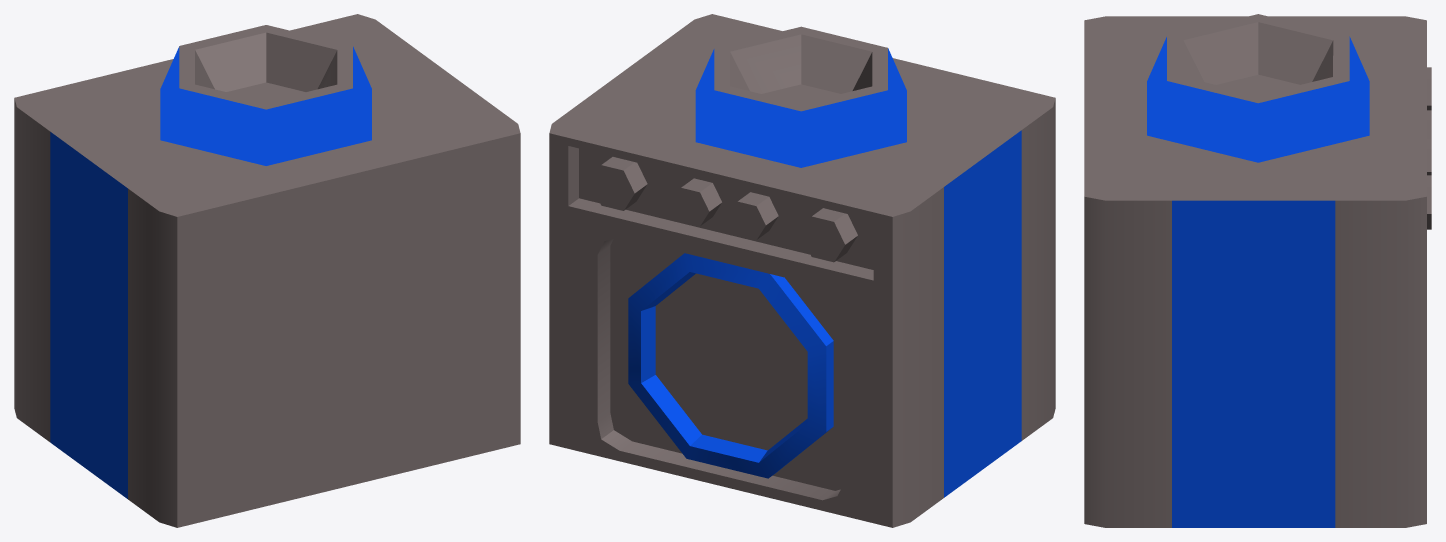
The model's file is AMP.fbx.
The picture shows the model from 3 angles, left to right: view 1: azimuth 30°, elevation 25°; view 2: azimuth 150°, elevation 25°; view 3: azimuth 270°, elevation 25°; orthographic projection. The views are drawn at different scales.
Visible parts, largest first — view 1: AMP; view 2: AMP; view 3: AMP.
Part boxes in pixels (bbox=[...]): AMP: bbox=[14, 14, 520, 527]; AMP: bbox=[549, 14, 1055, 527]; AMP: bbox=[1084, 14, 1431, 527].
Size of the model in its own units: 1.56 by 1.48 by 1.24.
